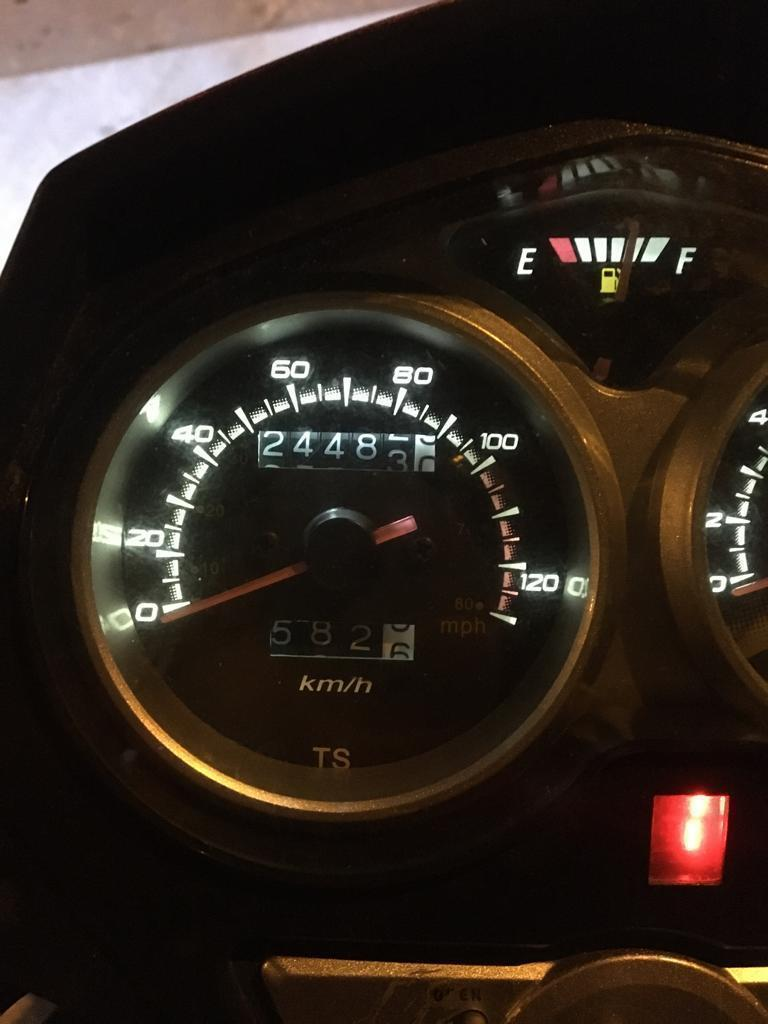0: (418, 454, 437, 480)
2: (261, 430, 285, 457)
3: (385, 448, 408, 475)
4: (323, 431, 345, 460), (292, 430, 314, 458)
8: (353, 432, 378, 461)
odometer: (250, 424, 442, 475)
